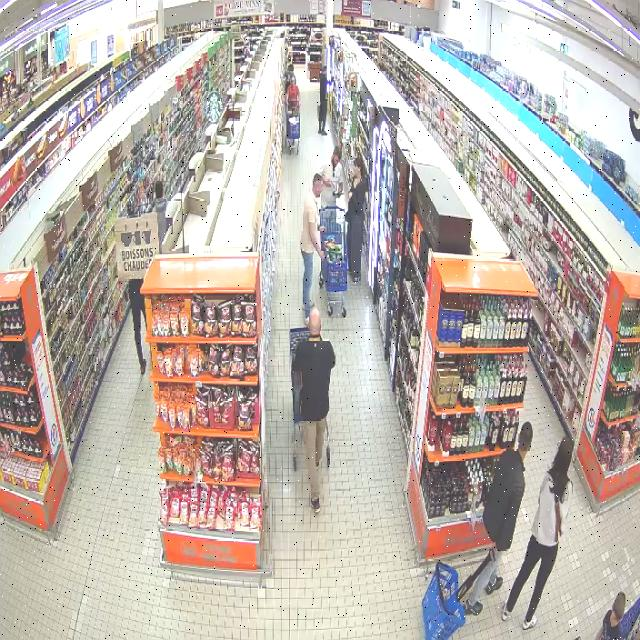article: (332, 191, 346, 198)
hands: (325, 177, 331, 188), (318, 250, 324, 260), (319, 225, 326, 231)
person: (502, 437, 572, 629), (463, 422, 532, 614), (292, 308, 335, 512), (300, 172, 326, 323), (345, 157, 367, 282), (317, 146, 347, 207)
